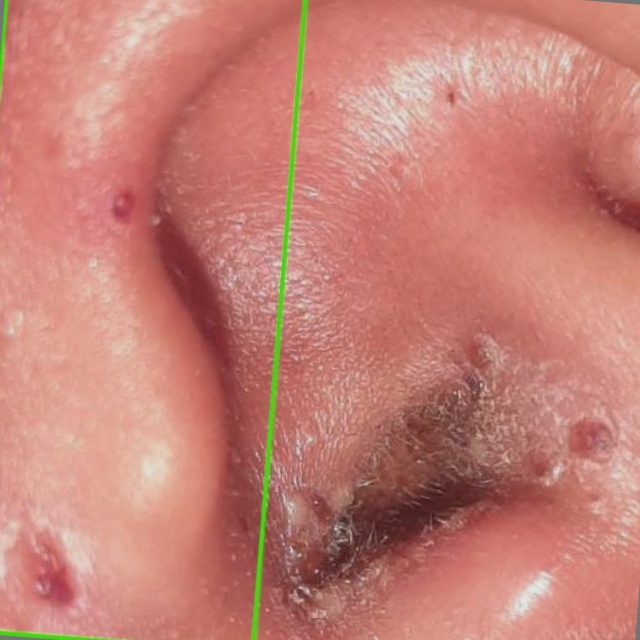Contact Dermatitis: (0, 0, 306, 639)
